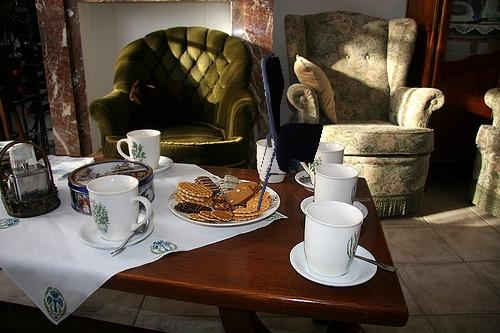tampered: (258, 53, 323, 210)
